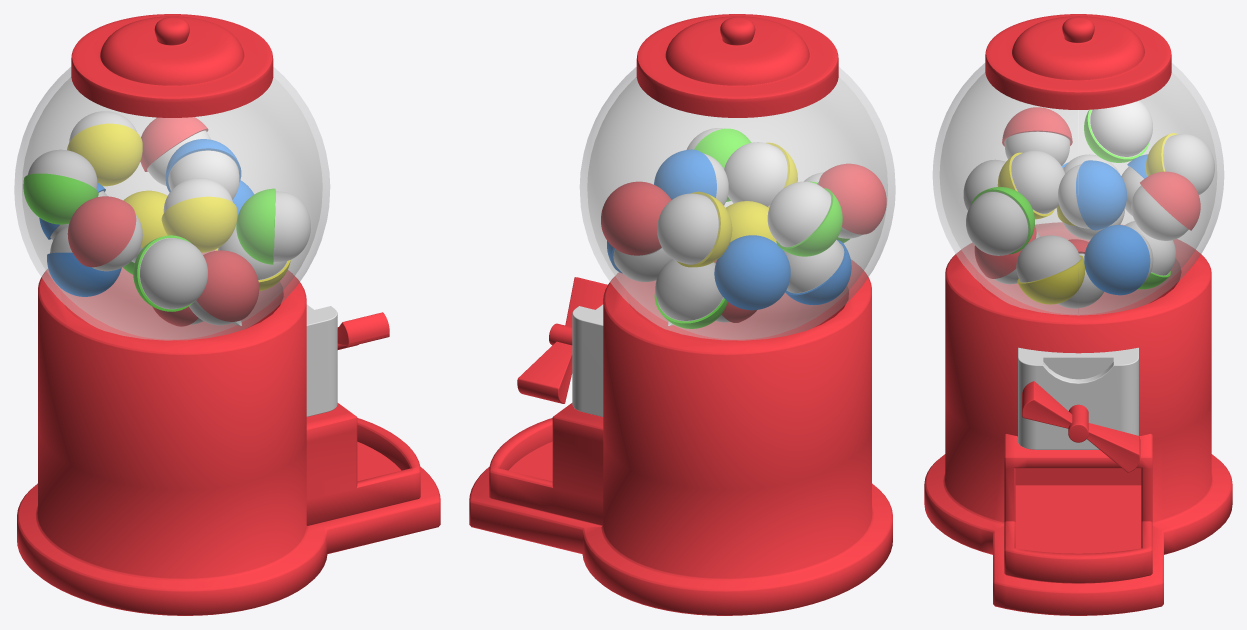
Rendered from gatya2.glb.
The picture shows the model from 3 angles, left to right: view 1: azimuth 30°, elevation 25°; view 2: azimuth 150°, elevation 25°; view 3: azimuth 270°, elevation 25°; orthographic projection. The views are drawn at different scales.
Visible parts, largest first — view 1: 円柱, 球.001, 球.002, 円柱.001, 球.004, 球.010, 球.012, 球.013, 球.016, 球.017, 球.006, 立方体 (+6 smaller); view 2: 円柱, 球.001, 球.002, 円柱.001, 球.007, 球.017, 球.016, 球.014, 円柱.002, 球.008, 球.013, 立方体 (+6 smaller); view 3: 球.001, 円柱, 円柱.001, 球.002, 立方体, 球.011, 球.012, 球.015, 球.005, 球.014, 円柱.002, 球.016 (+9 smaller).
Part boxes in pixels (x1,y1,x2,y2): 円柱: (17,250,440,615); 球.001: (14,67,329,340); 球.002: (71,14,273,117); 円柱.001: (306,403,420,525); 球.004: (133,235,207,311); 球.010: (67,196,142,271); 球.012: (236,188,310,264); 球.013: (161,178,237,252); 球.016: (23,149,98,224); 球.017: (67,111,142,186); 球.006: (189,250,259,325); 立方体: (233,304,337,416); 円柱: (469,260,892,615); 球.001: (580,67,895,340); 球.002: (636,14,838,117); 円柱.001: (489,403,603,525); 球.007: (714,235,790,310); 球.017: (657,191,732,267); 球.016: (767,181,842,256); 球.014: (601,181,671,255); 円柱.002: (517,277,607,403); 球.008: (654,259,727,328); 球.013: (724,142,797,207); 立方体: (572,304,673,416); 球.001: (933,63,1223,315); 円柱: (924,222,1232,615); 円柱.001: (1004,434,1152,583); 球.002: (985,14,1171,109); 立方体: (1018,347,1138,449); 球.011: (1084,225,1153,295); 球.012: (966,187,1034,255); 球.015: (1058,160,1126,230); 球.005: (1016,235,1085,304); 球.014: (1131,171,1200,240); 円柱.002: (1022,381,1140,472); 球.016: (1084,100,1152,162).
Bounding box in the file's own units: 8.66 × 11.44 × 6.57.
